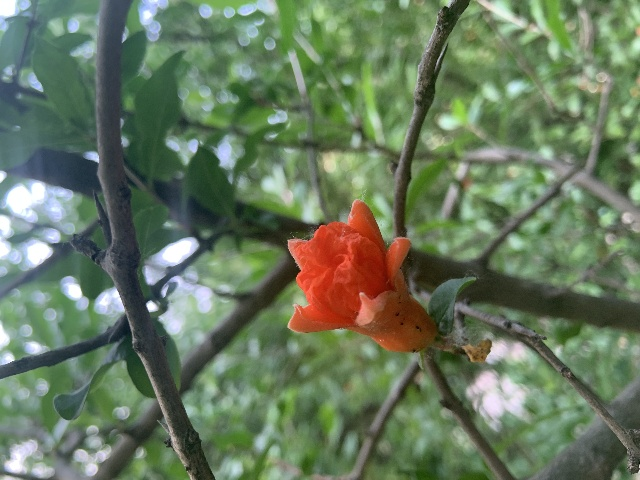flower: (286, 198, 436, 354)
